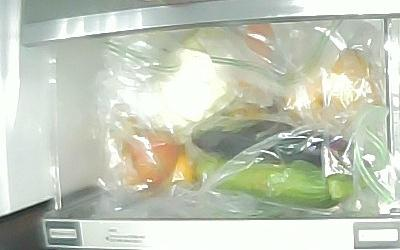cabbage_vinyl: (141, 27, 242, 134)
eggplant_vinyl: (193, 118, 370, 171)
pear_vinyl: (289, 47, 382, 127)
tangerine_vinyl: (168, 154, 196, 185)
tomato_vinyl: (121, 124, 181, 193)
zucchini_vinyl: (196, 160, 366, 210)
